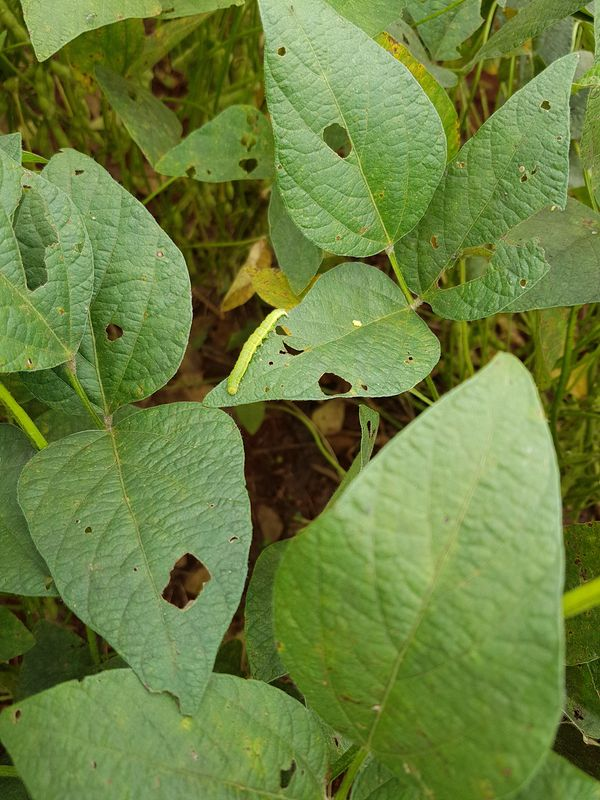Anticarsia_gemmatalis: (219, 303, 297, 399)
